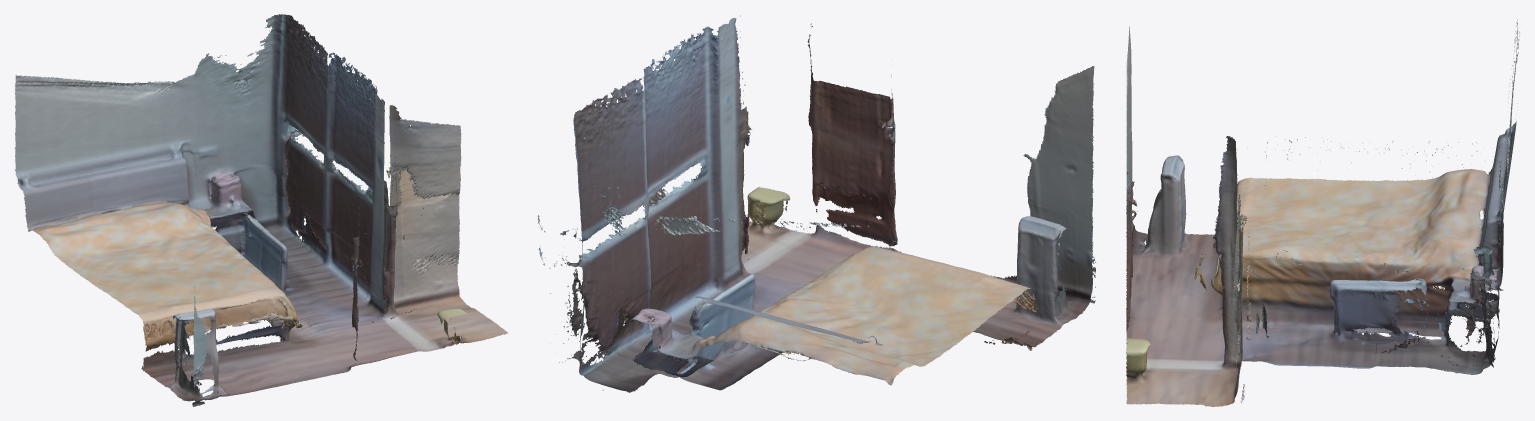
The model's file is apartment-detail-2-ecbddbe291f2.glb.
The picture shows the model from 3 angles, left to right: view 1: azimuth 30°, elevation 25°; view 2: azimuth 150°, elevation 25°; view 3: azimuth 270°, elevation 25°; orthographic projection. The views are drawn at different scales.
Bounding box in the file's own units: 3.32 × 2.42 × 3.28.
